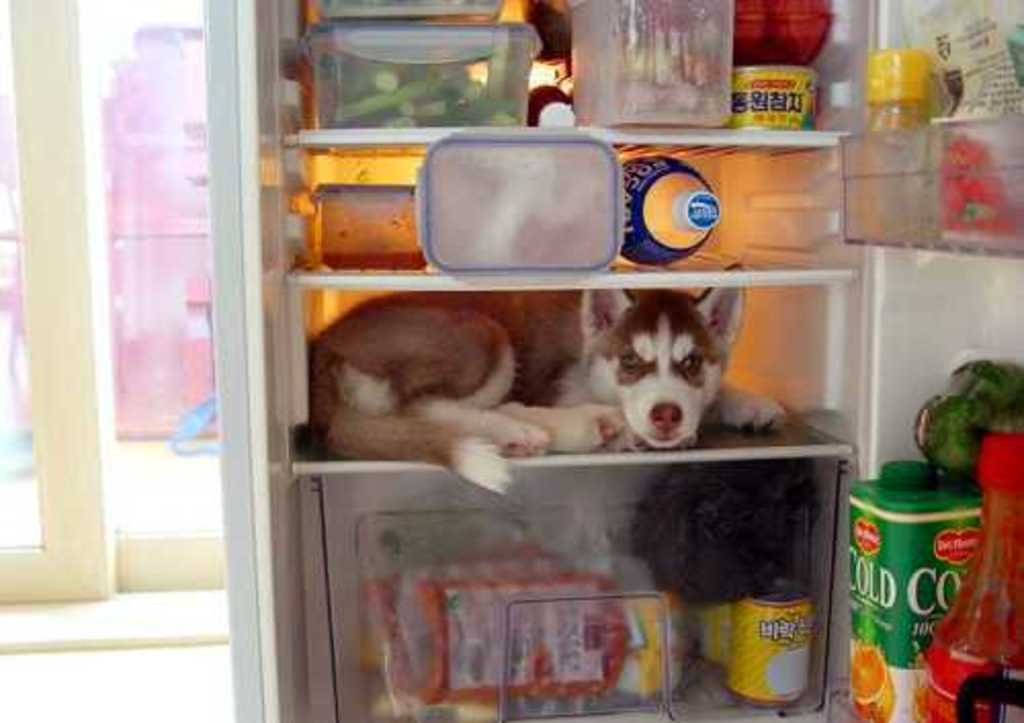refrigerator door: (882, 31, 1024, 723)
